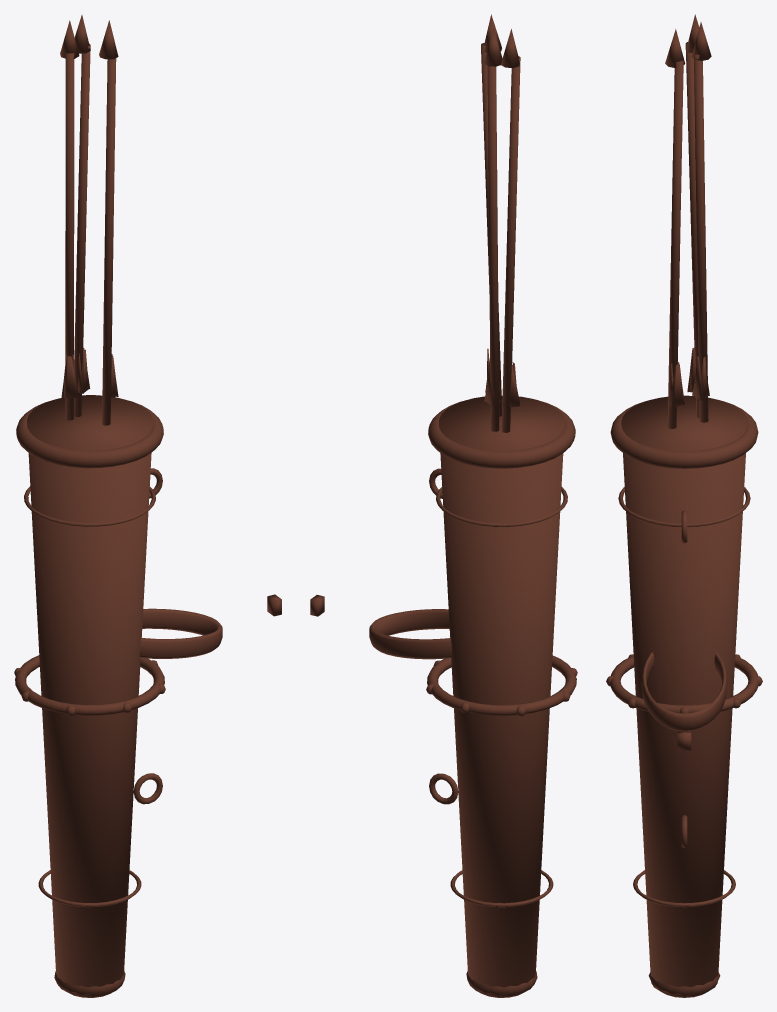
The model's file is arrow_quiver.glb.
3 views of the same model, side by side, from view 1: azimuth 30°, elevation 25°; view 2: azimuth 150°, elevation 25°; view 3: azimuth 270°, elevation 25° (orthographic).
Visible parts, largest first — view 1: arrow_quiver; view 2: arrow_quiver; view 3: arrow_quiver.
Boxes of the visible parts, x1,y1,x2,y2 form: arrow_quiver: (14, 15, 281, 997); arrow_quiver: (310, 14, 577, 997); arrow_quiver: (606, 14, 762, 997).
Size of the model in its own units: 0.264 by 0.956 by 0.14.
1 material, 1 textured.
